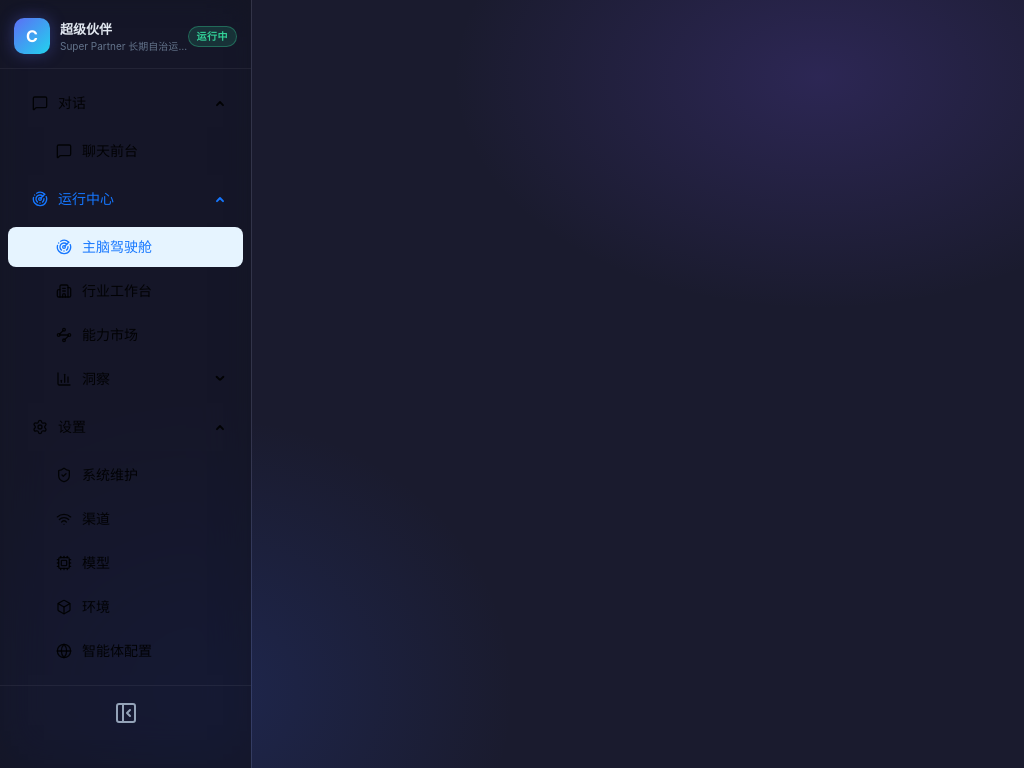
Test case: Sidebar › renders runtime-center-first navigation labels
Expected: the text "超级伙伴" is shown, [60, 21, 112, 37]
Expected: the text "Super Partner 长期自治运行中心" is shown, [60, 40, 188, 53]
Click the menu item "洞察" at (83, 378), box [56, 370, 110, 387]
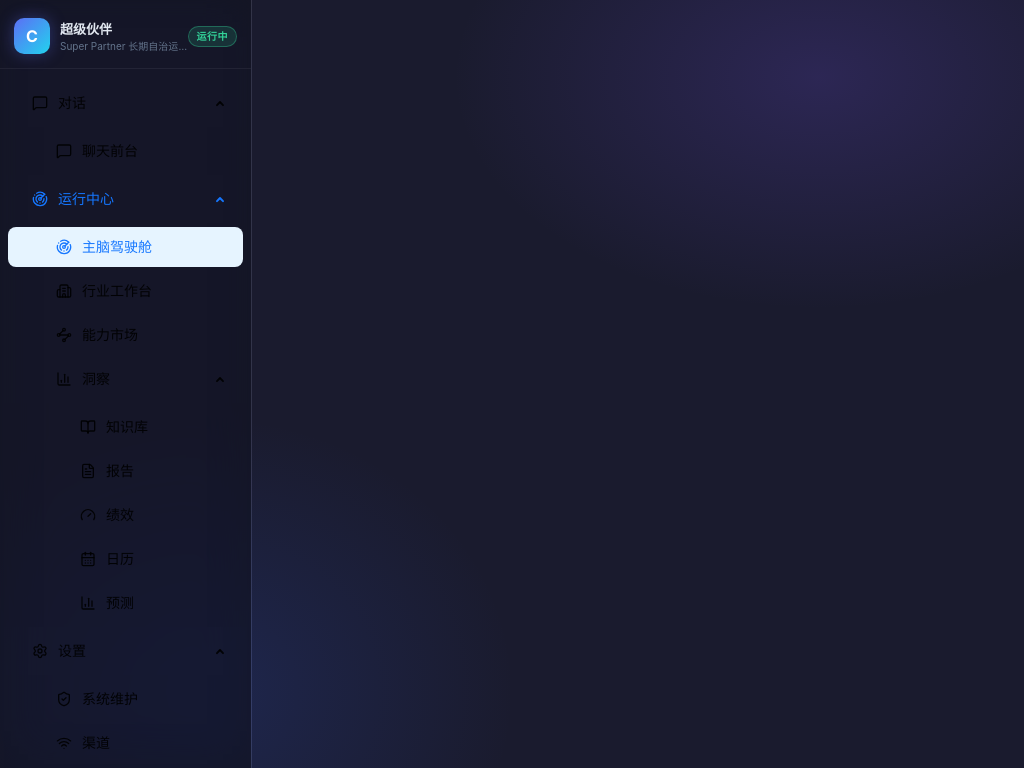
Expected: the text "知识库" is shown, [106, 418, 148, 435]
Expected: the text "报告" is shown, [106, 462, 134, 479]
Expected: the text "绩效" is shown, [106, 506, 134, 523]
